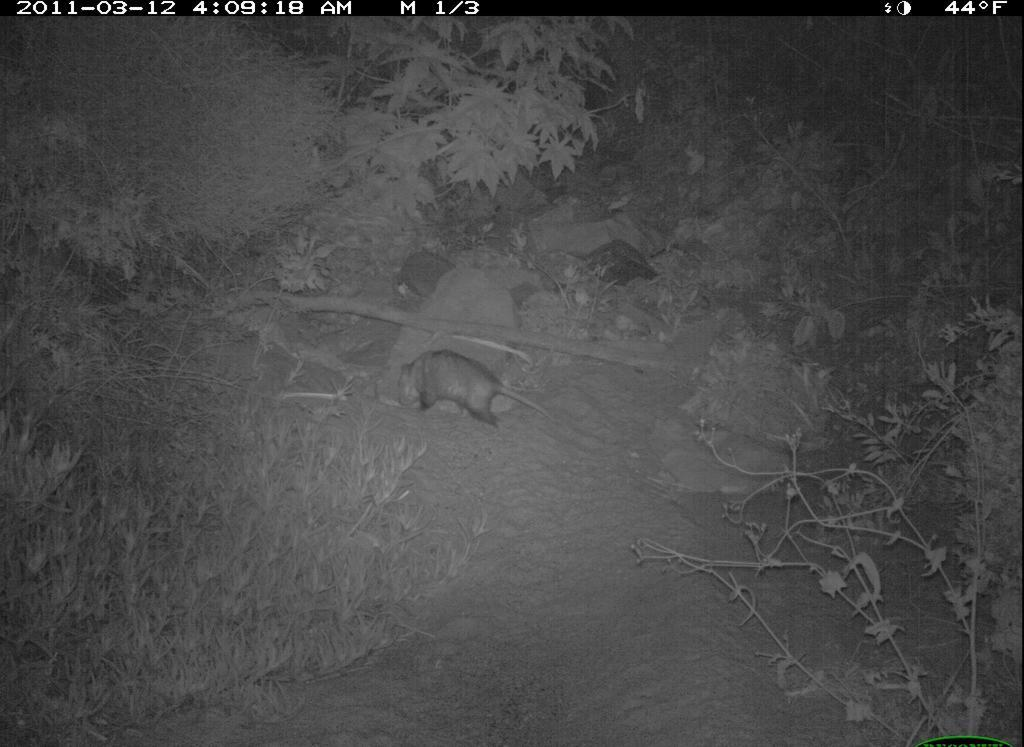opossum: (387, 341, 569, 442)
